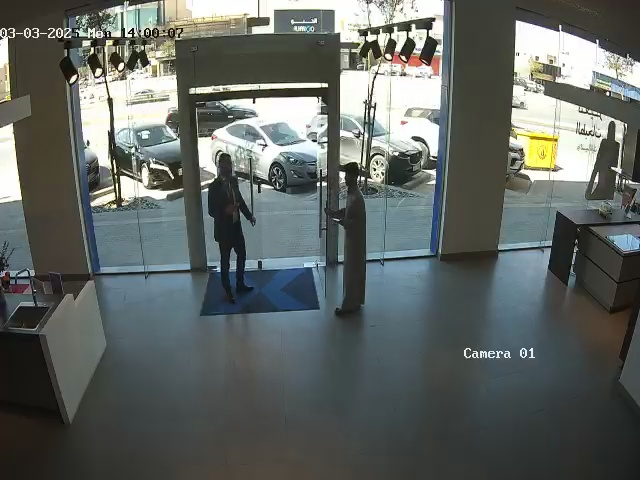employee: (207, 153, 257, 304), (324, 162, 367, 316)
other: (576, 96, 629, 204)
